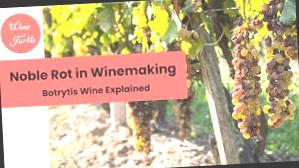Grape Rotten: (224, 0, 299, 139)
